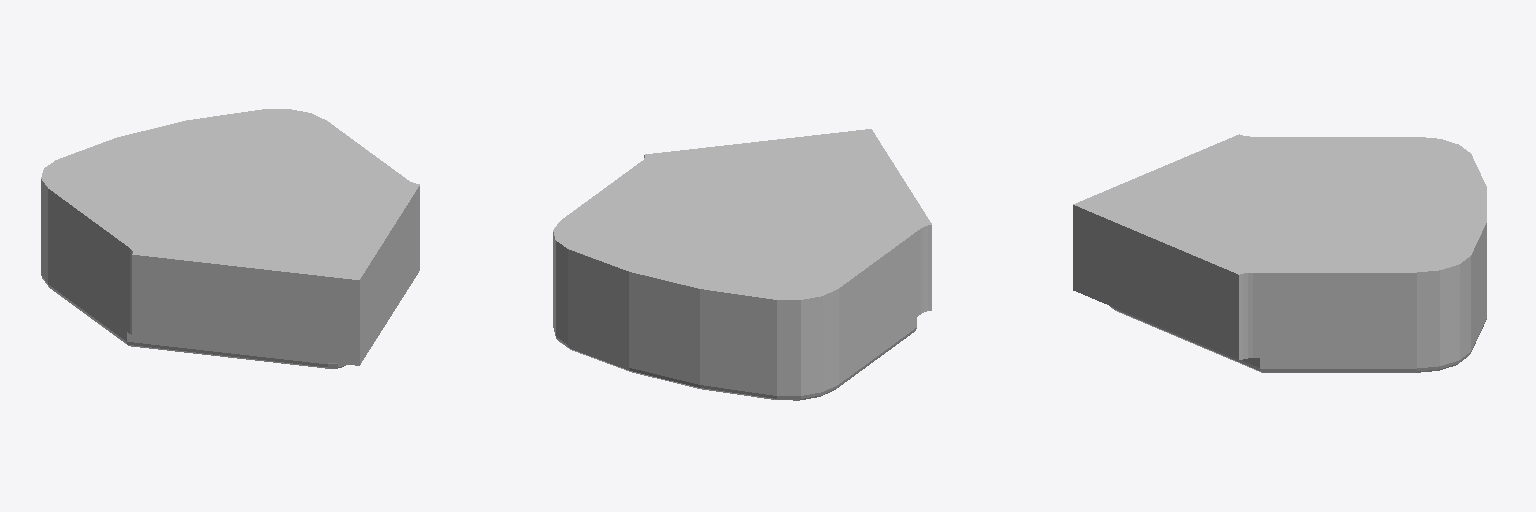
The model's file is DPad-Down.obj.
3 views of the same model, side by side, from view 1: azimuth 30°, elevation 25°; view 2: azimuth 150°, elevation 25°; view 3: azimuth 270°, elevation 25° (orthographic).
Parts seen in each view (by area): view 1: DPad-Down; view 2: DPad-Down; view 3: DPad-Down.
Boxes of the visible parts, <box> form: DPad-Down: <box>41,109,419,368</box>; DPad-Down: <box>553,129,931,400</box>; DPad-Down: <box>1073,134,1486,372</box>.
Bounding box in the file's own units: 8.79 × 3 × 10.95.